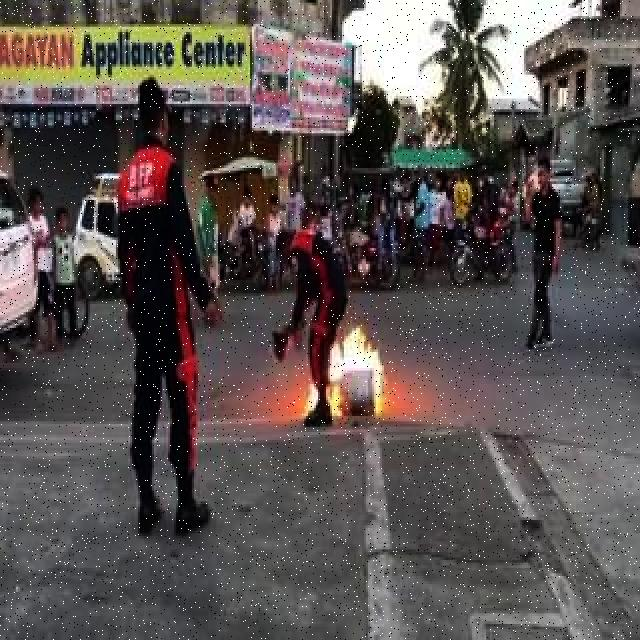fire: (302, 343, 390, 432)
